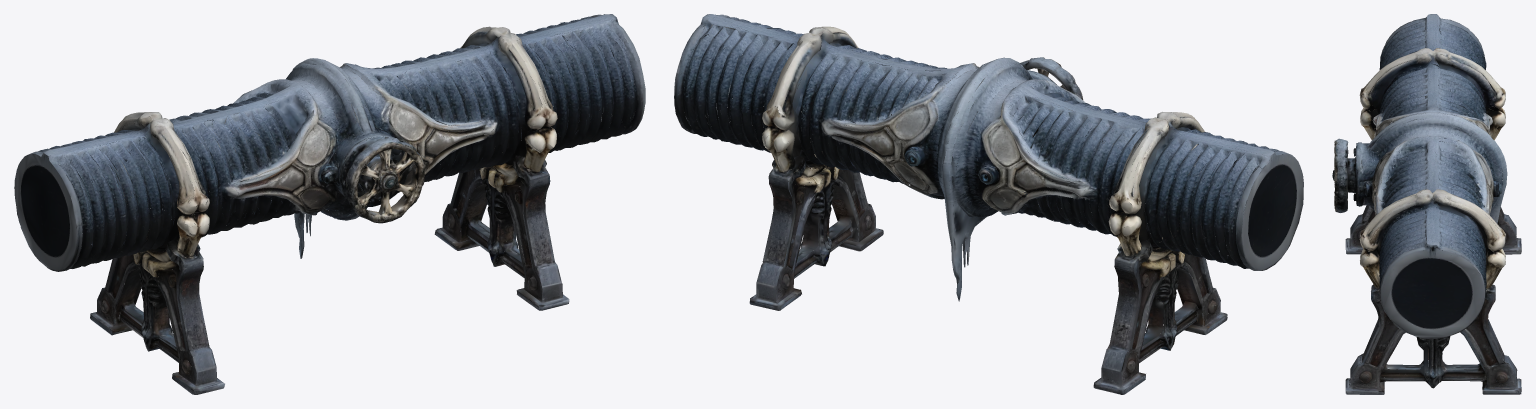
File: life_pipeline_trestle.glb
3 renders of one model, left to right at view 1: azimuth 30°, elevation 25°; view 2: azimuth 150°, elevation 25°; view 3: azimuth 270°, elevation 25°, orthographic. The views are drawn at different scales.
Parts seen in each view (by area): view 1: node_0; view 2: node_0; view 3: node_0.
Part boxes in pixels (box(x1,y1,x2,y2)): node_0: box(14, 14, 645, 394); node_0: box(674, 14, 1303, 394); node_0: box(1332, 14, 1521, 394).
Bounding box in the file's own units: 1.13 × 0.4714 × 0.3918.
1 material, 1 textured.
